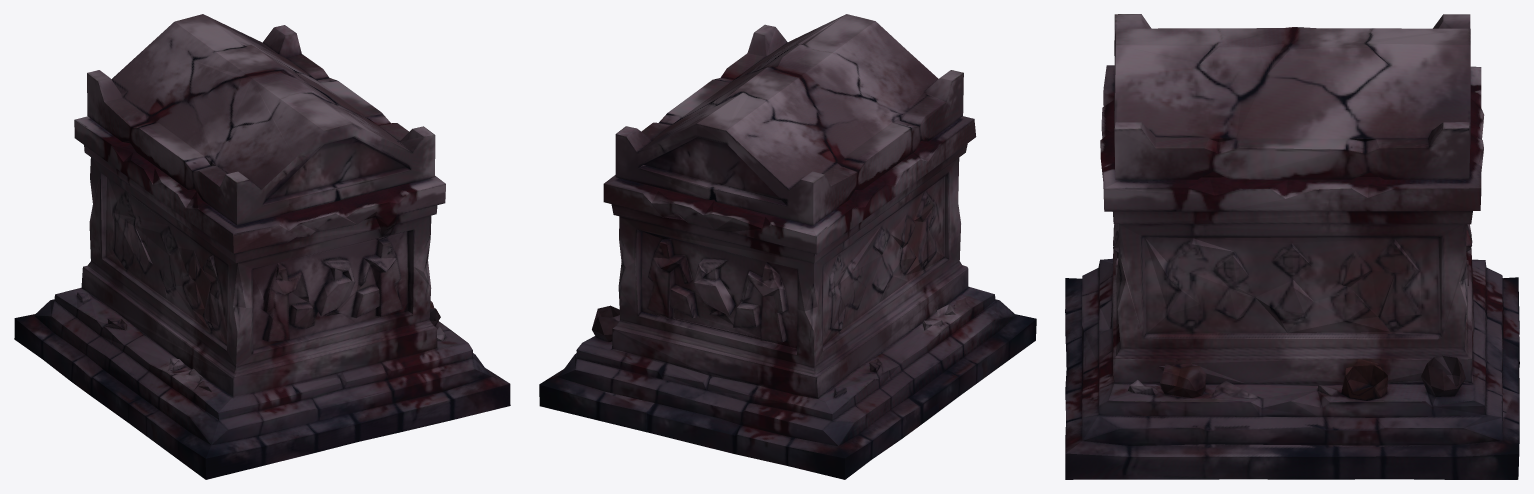
File: tombe1_LOD1.glb
The picture shows the model from 3 angles, left to right: view 1: azimuth 30°, elevation 25°; view 2: azimuth 150°, elevation 25°; view 3: azimuth 270°, elevation 25°; orthographic projection. The views are drawn at different scales.
Bounding box in the file's own units: 0.9174 × 0.8636 × 0.9997.
Materials: 1 (1 with a texture image).
